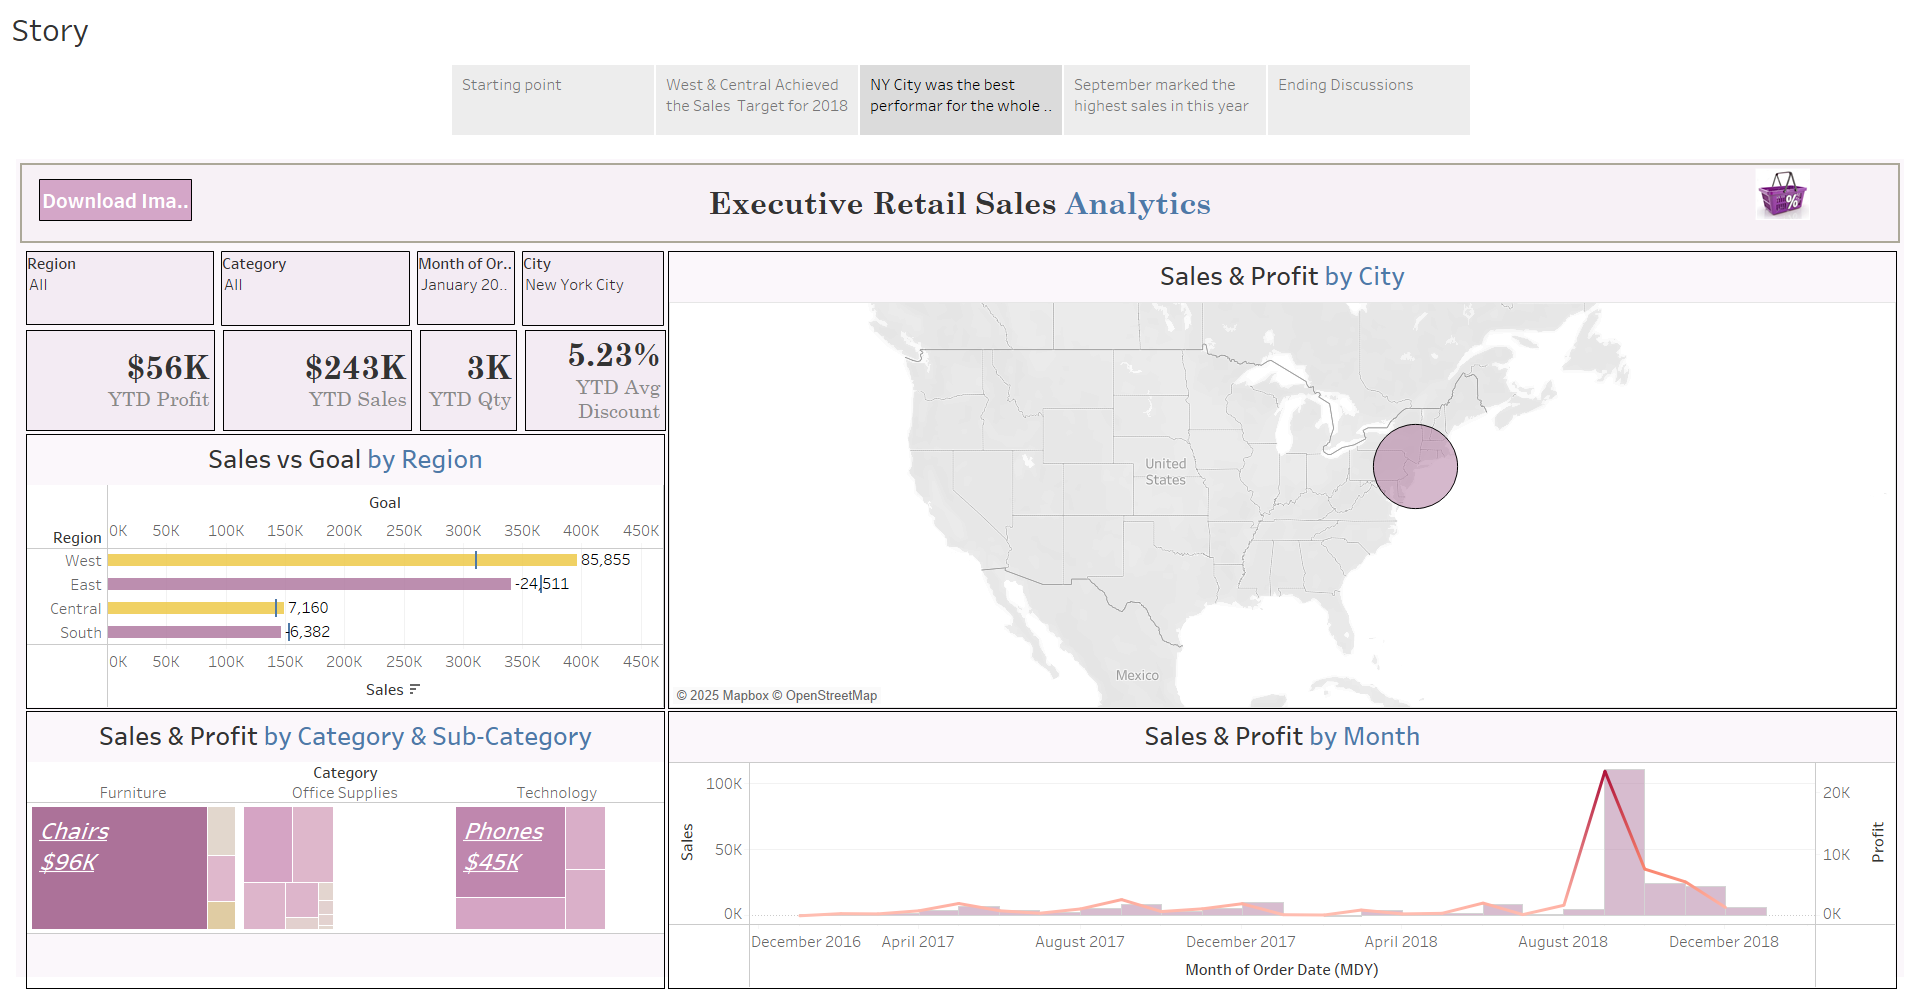

This screenshot's page, from the dashboard's own definition file:
{"tool":"tableau","page":{"name":"Dashboard 1","canvas":[1000,1000],"units":"permille","ordinal":0},"visuals":[{"type":"title","box":[4.8,10,990.3,109.9]},{"type":"image","param":"Image/STORE.jpg","box":[906.2,20,51.4,62.4]},{"type":"dashboard-object","box":[16.3,33.7,80.3,49.9]},{"type":"filter","title":"Sheet 2","param":"[federated.0otv4zu1pa6xi91826qd8018jcip].[none:Region:nk]","box":[9.5,119.9,98.5,88.6]},{"type":"filter","title":"Sheet 3","param":"[federated.0otv4zu1pa6xi91826qd8018jcip].[none:Category:nk]","box":[111.8,119.9,99.6,89.9]},{"type":"filter","title":"Sheet 4","param":"[federated.0otv4zu1pa6xi91826qd8018jcip].[tmn:Order Date (MDY):qk]","box":[215,119.9,51.4,88.6]},{"type":"filter","title":"Sheet 5","param":"[federated.0otv4zu1pa6xi91826qd8018jcip].[none:City:nk]","box":[270.1,119.9,74.2,89.9]},{"type":"worksheet","title":"Sheet 5","mark":"Automatic","box":[346.4,119.9,645.7,549.3]},{"type":"worksheet","title":"Sheet 6 (2)","mark":"Automatic","box":[7.2,209.7,93.5,131.1]},{"type":"worksheet","title":"Sheet 6","mark":"Automatic","box":[100.8,209.7,93.5,131.1]},{"type":"worksheet","title":"Sheet 6 (3)","mark":"Automatic","box":[194.3,209.7,63.4,131.1]},{"type":"worksheet","title":"Sheet 6 (4)","mark":"Automatic","box":[257.7,209.7,89.9,131.1]},{"type":"worksheet","title":"Sheet 2","mark":"Automatic","rows":["Region"],"cols":["Sales","Goal"],"box":[9.7,339.6,335.6,329.6]},{"type":"worksheet","title":"Sheet 3","mark":"Automatic","cols":["Category"],"box":[9.7,671.7,335.6,333.3]},{"type":"worksheet","title":"Sheet 4","mark":"Automatic","rows":["Sales","Profit"],"cols":["Order Date (MDY)"],"box":[346.4,671.7,645.8,333.3]}]}

Visuals, with their boxes on the dashboard's canvas, which has no fixed pixel size, in thousandths of its width and height (x1, y1, x2, y2). These are canvas units, not pixel positions in the 1920x993 screenshot, which may show the page scaled, cropped or inside an application window:
title: 5,10,995,120
image: 906,20,958,82
dashboard-object: 16,34,97,84
"Sheet 2" filter: 10,120,108,208
"Sheet 3" filter: 112,120,211,210
"Sheet 4" filter: 215,120,266,208
"Sheet 5" filter: 270,120,344,210
"Sheet 5" worksheet: 346,120,992,669
"Sheet 6 (2)" worksheet: 7,210,101,341
"Sheet 6" worksheet: 101,210,194,341
"Sheet 6 (3)" worksheet: 194,210,258,341
"Sheet 6 (4)" worksheet: 258,210,348,341
"Sheet 2" worksheet: 10,340,345,669
"Sheet 3" worksheet: 10,672,345,1005
"Sheet 4" worksheet: 346,672,992,1005
